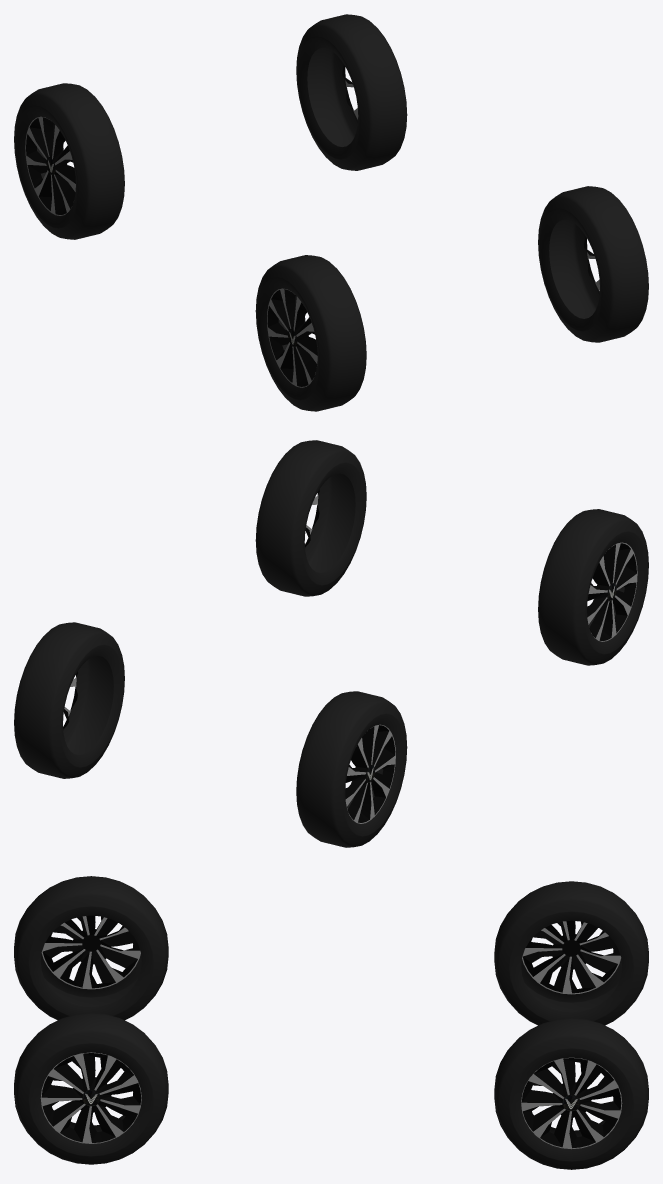
The model's file is Lốp Vành 1.glb.
3 views of the same model, one above another, from view 1: azimuth 30°, elevation 25°; view 2: azimuth 150°, elevation 25°; view 3: azimuth 270°, elevation 25° (orthographic).
Visible parts, largest first — view 1: Lốp L, Lốp R, 1; view 2: Lốp L, Lốp R, 1; view 3: Lốp R, Lốp L, 1.
Boxes of the visible parts, x1,y1,x2,y2 form: Lốp L: [296, 14, 648, 342]; Lốp R: [14, 83, 366, 411]; 1: [25, 65, 599, 387]; Lốp L: [14, 440, 366, 778]; Lốp R: [296, 509, 648, 847]; 1: [63, 489, 637, 823]; Lốp R: [14, 876, 648, 1025]; Lốp L: [14, 1013, 648, 1169]; 1: [40, 915, 622, 1149].
Bounding box in the file's own units: 0.9812 × 0.4181 × 1.66.
4 materials, 1 textured.
